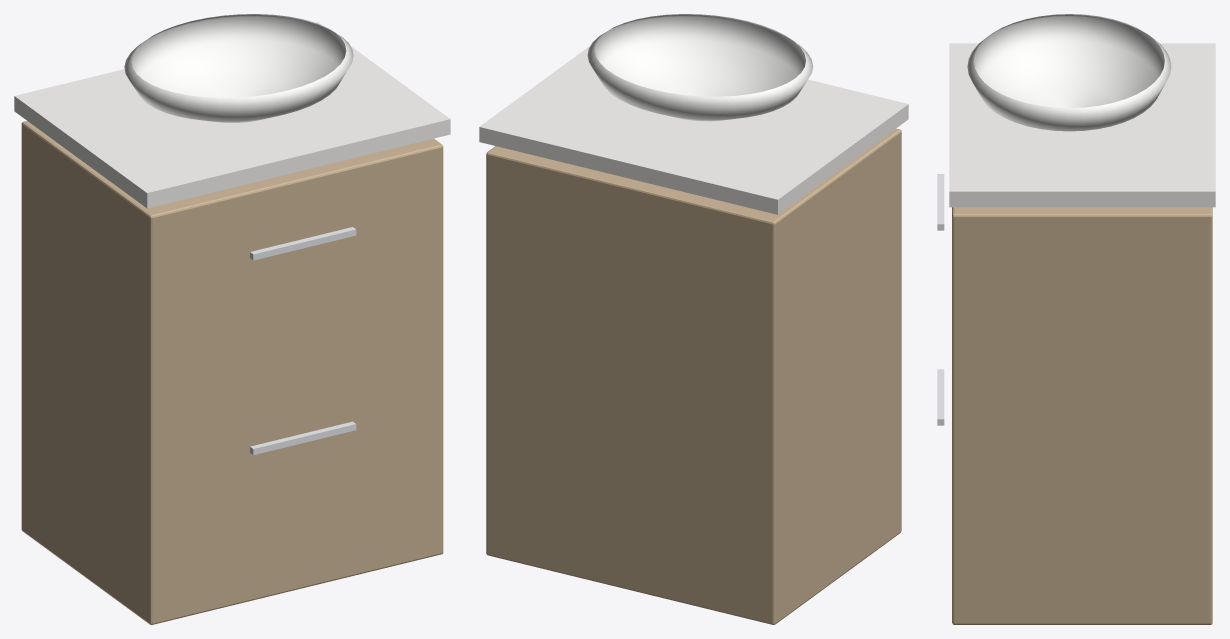
File: vanity-standing-drawers.glb
3 views of the same model, side by side, from view 1: azimuth 30°, elevation 25°; view 2: azimuth 150°, elevation 25°; view 3: azimuth 270°, elevation 25° (orthographic).
Visible parts, largest first — view 1: body; view 2: body; view 3: body.
Boxes of the visible parts, left/top/right/bottom form: body: left=14, top=14, right=450, bottom=624; body: left=479, top=14, right=908, bottom=624; body: left=937, top=14, right=1215, bottom=624.
Bounding box in the file's own units: 0.62 × 0.96 × 0.491.
